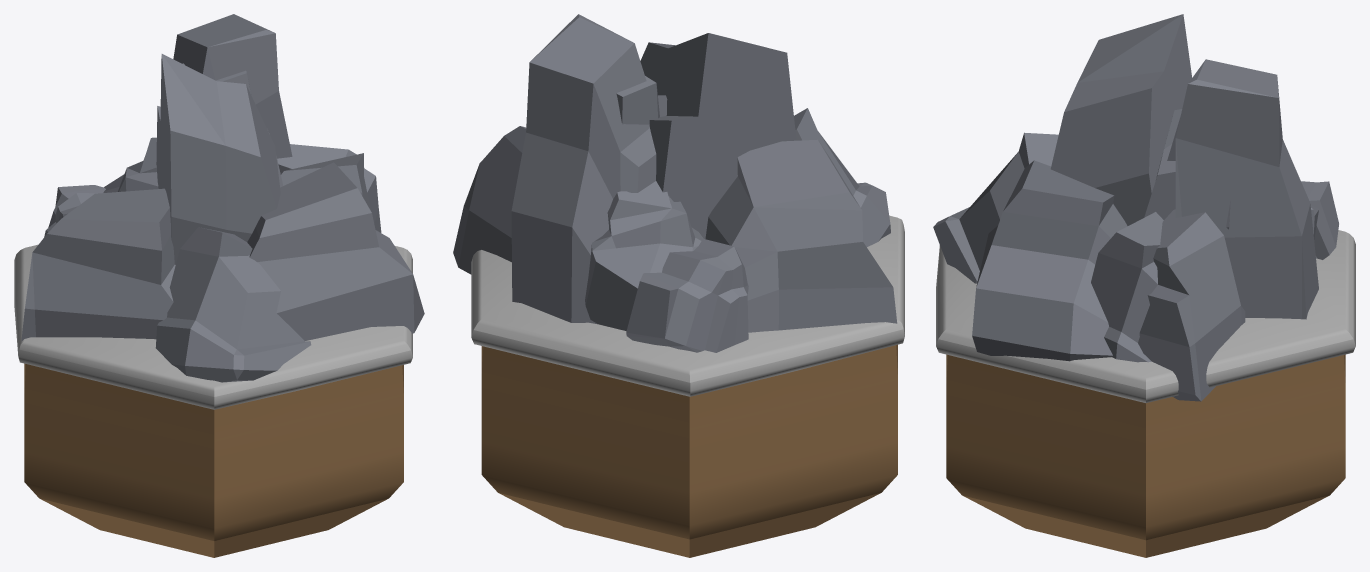
File: Mountains4.fbx
3 renders of one model, left to right at view 1: azimuth 30°, elevation 25°; view 2: azimuth 150°, elevation 25°; view 3: azimuth 270°, elevation 25°, orthographic. The views are drawn at different scales.
Visible parts, largest first — view 1: polySurface64; view 2: polySurface64; view 3: polySurface64.
Part boxes in pixels (box(x1,y1,x2,y2)): polySurface64: box(14, 14, 424, 557); polySurface64: box(453, 14, 904, 557); polySurface64: box(933, 14, 1355, 557).
Size of the model in its own units: 1.92 by 2.22 by 1.69.
